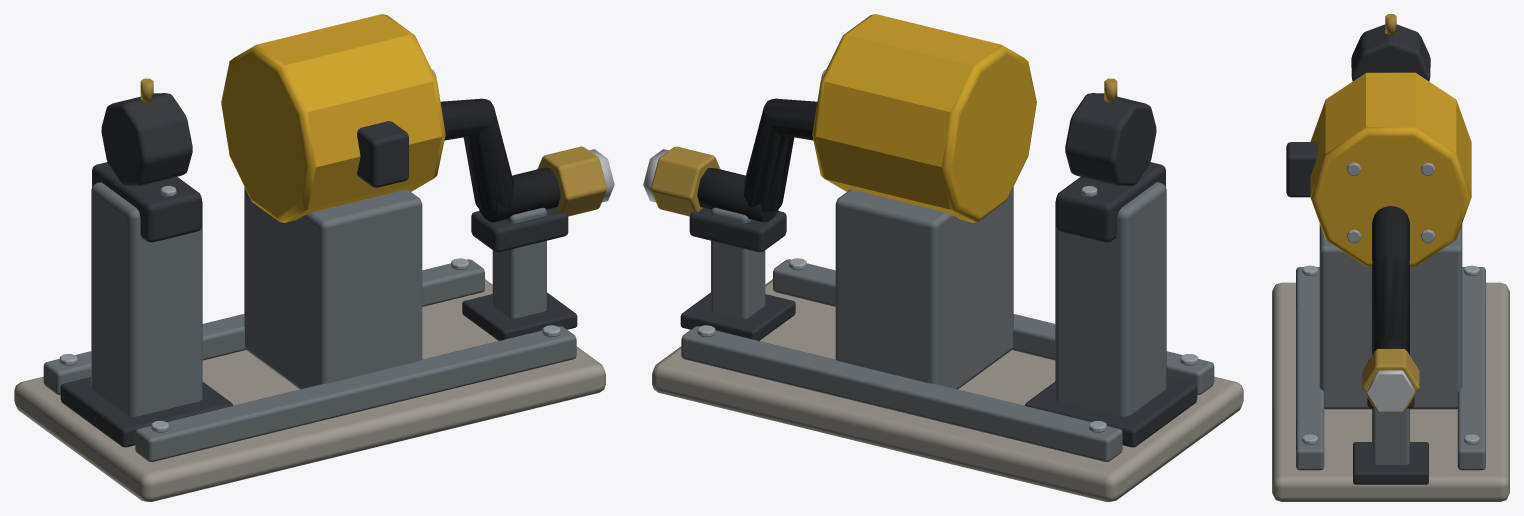
File: pp_pump.glb
3 renders of one model, left to right at view 1: azimuth 30°, elevation 25°; view 2: azimuth 150°, elevation 25°; view 3: azimuth 270°, elevation 25°, orthographic. The views are drawn at different scales.
Parts seen in each view (by area): view 1: cyl.003, block.001, block.007, block.004, block.002, cyl.001, pipe, block.003, block.006, block.009, block.005, cyl.005 (+4 smaller); view 2: cyl.003, block.001, block.007, block.004, block.003, cyl.001, pipe, block.002, block.006, block.009, block.005, cyl.005 (+3 smaller); view 3: cyl.003, block.001, block.007, block.002, block.003, pipe, cyl.001, block, block.009, cyl, block.008, cyl.005 (+1 smaller).
Boxes of the visible parts, x1,y1,x2,y2 form: cyl.003: (221,14,445,222); block.001: (14,279,605,501); block.007: (244,187,422,389); block.004: (91,182,202,416); block.002: (135,326,576,461); cyl.001: (101,93,192,185); pipe: (440,98,514,211); block.003: (43,259,484,394); block.006: (92,162,201,242); block.009: (492,207,546,318); block.005: (60,377,232,447); cyl.005: (537,146,606,216); cyl.003: (812,14,1036,222); block.001: (652,279,1243,501); block.007: (835,187,1013,389); block.004: (1055,182,1166,416); block.003: (681,326,1122,461); cyl.001: (1065,93,1156,185); pipe: (743,98,817,211); block.002: (773,259,1214,394); block.006: (1056,162,1165,242); block.009: (711,207,765,318); block.005: (1025,377,1197,447); cyl.005: (651,146,720,216); cyl.003: (1310,72,1471,266); block.001: (1272,282,1509,501); block.007: (1319,224,1462,409); block.002: (1296,267,1324,470); block.003: (1457,267,1485,470); pipe: (1372,206,1409,346); cyl.001: (1351,24,1430,81); block: (1353,442,1428,484); block.009: (1372,408,1409,464); cyl: (1367,370,1414,411); block.008: (1286,142,1317,197); cyl.005: (1362,349,1419,410).
Size of the model in its own units: 1.13 by 0.74 by 0.5.
